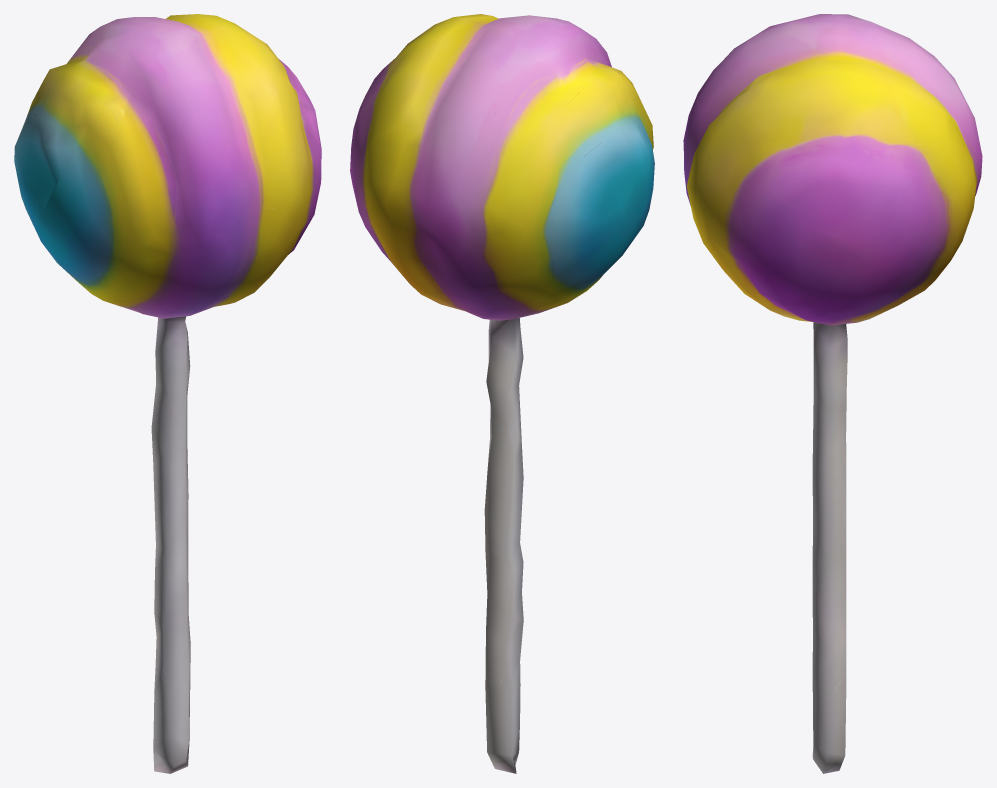
The model's file is lollipop_2.fbx.
The picture shows the model from 3 angles, left to right: view 1: azimuth 30°, elevation 25°; view 2: azimuth 150°, elevation 25°; view 3: azimuth 270°, elevation 25°; orthographic projection.
Visible parts, largest first — view 1: Lollipop_2; view 2: Lollipop_2; view 3: Lollipop_2.
Boxes of the visible parts, <box> form: Lollipop_2: <box>14,14,321,773</box>; Lollipop_2: <box>350,14,654,773</box>; Lollipop_2: <box>683,14,982,773</box>.
Bounding box in the file's own units: 43.59 × 120 × 44.09.
